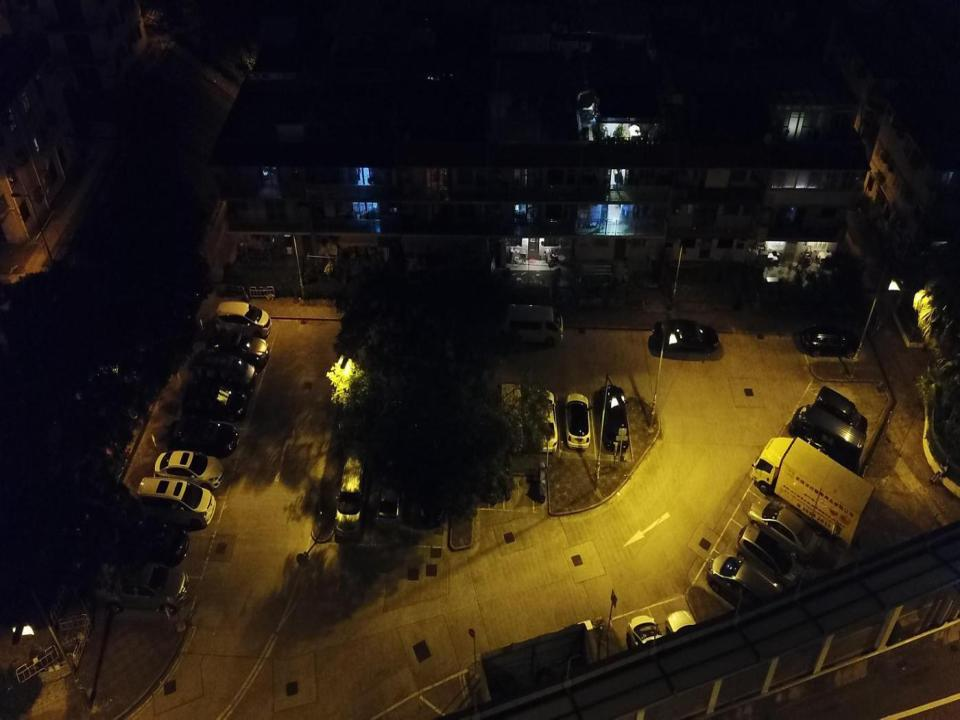car: (90, 559, 190, 616), (707, 552, 791, 618), (747, 496, 821, 562), (104, 514, 189, 568), (735, 524, 809, 586), (811, 386, 869, 440), (192, 349, 256, 395), (152, 450, 224, 490), (798, 317, 860, 360), (626, 613, 669, 674), (665, 609, 708, 670), (653, 317, 720, 354), (172, 418, 239, 454), (181, 382, 248, 417), (206, 330, 270, 364), (598, 384, 630, 452), (215, 300, 272, 338), (527, 390, 558, 452), (563, 393, 594, 449), (376, 479, 402, 532)
truck: (751, 436, 876, 548), (498, 381, 524, 454)
van: (788, 404, 866, 469), (136, 476, 216, 528), (334, 454, 370, 541), (502, 300, 565, 345)
